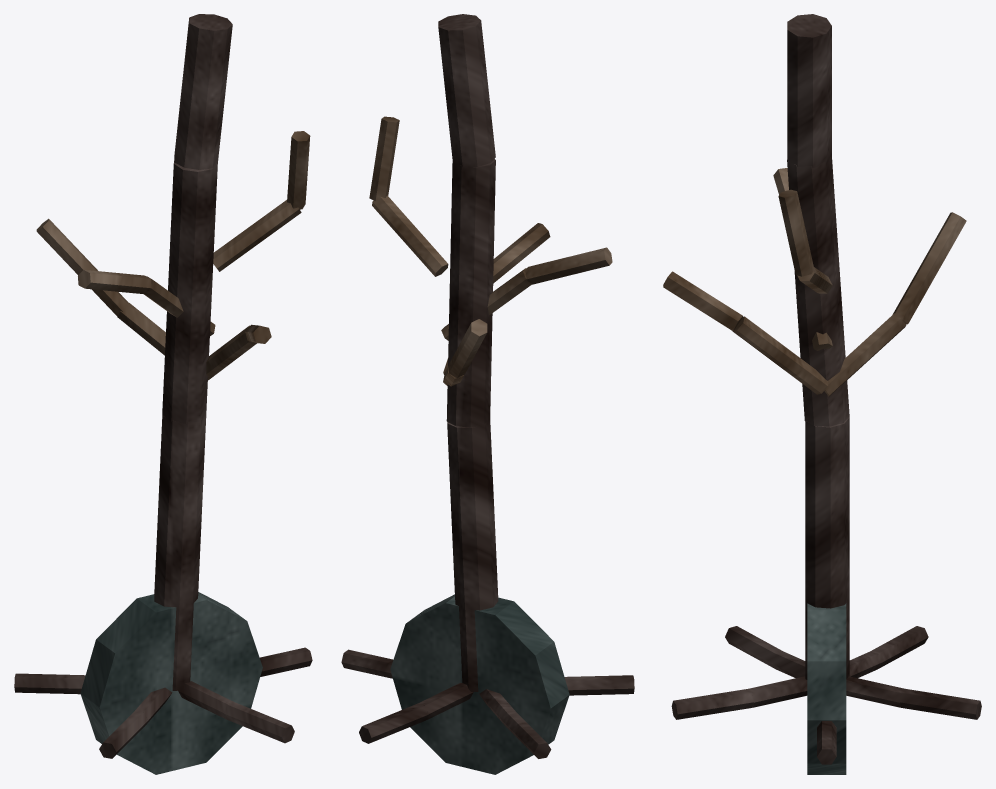
The model's file is 0133_dead_tree_08.glb.
The picture shows the model from 3 angles, left to right: view 1: azimuth 30°, elevation 25°; view 2: azimuth 150°, elevation 25°; view 3: azimuth 270°, elevation 25°; orthographic projection. The views are drawn at different scales.
Visible parts, largest first — view 1: wood_dark, stone_dark, wood; view 2: wood_dark, stone_dark, wood; view 3: wood_dark, wood, stone_dark.
Part boxes in pixels (box(x1,y1,x2,y2)): wood_dark: box(14, 14, 312, 758); stone_dark: box(80, 592, 262, 774); wood: box(36, 131, 310, 380); wood_dark: box(341, 14, 634, 758); stone_dark: box(390, 594, 569, 774); wood: box(369, 116, 612, 386); wood_dark: box(671, 14, 981, 764); wood: box(663, 168, 966, 396); stone_dark: box(807, 603, 846, 774).
Bounding box in the file's own units: 1.66 × 4.68 × 1.79.
Materials: 3 (3 with a texture image).
